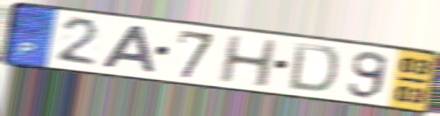2: (52, 16, 105, 71)
7: (175, 28, 217, 80)
9: (345, 50, 389, 100)
A: (98, 23, 158, 75)
D: (285, 40, 341, 95)
H: (215, 34, 279, 90)
